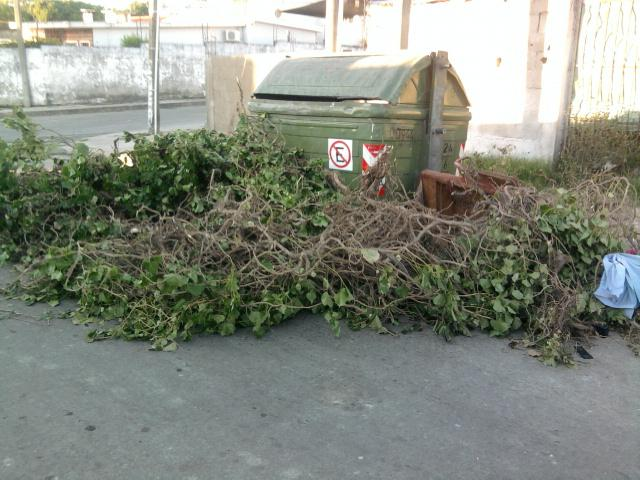Dechets: (0, 113, 637, 364), (420, 166, 517, 215), (594, 253, 639, 318)
Trash: (248, 51, 470, 191)
